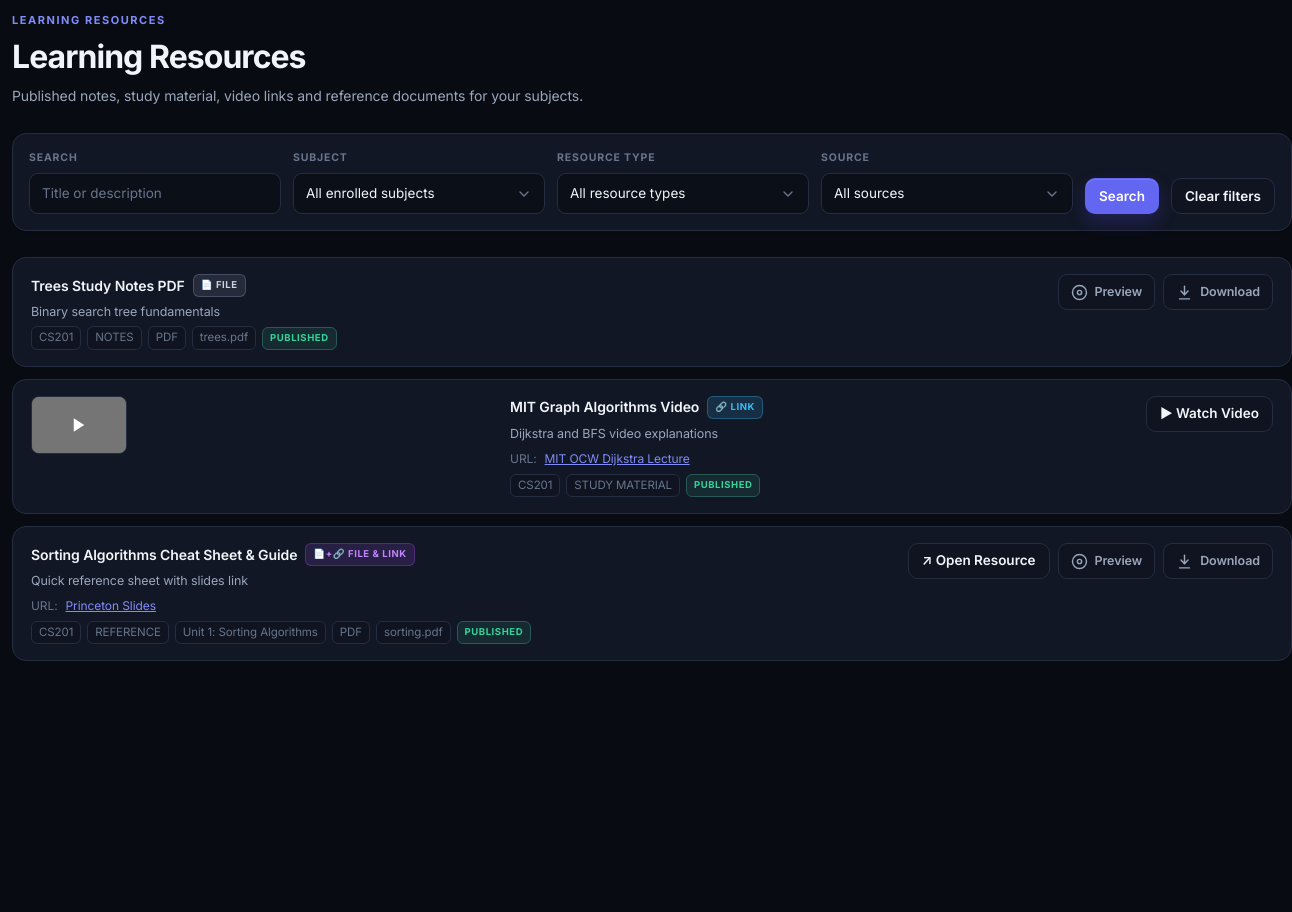
it: StudentResources — Learning Resources Viewing & Source Filtering › filters by source (Files only, External links only, Both)
Expected: the text "Trees Study Notes PDF" is shown, [31,275,185,296]
Filter to External links only
Select "External links only" in the dropdown labelled "Source" at (947, 194), box [821,173,1073,214]
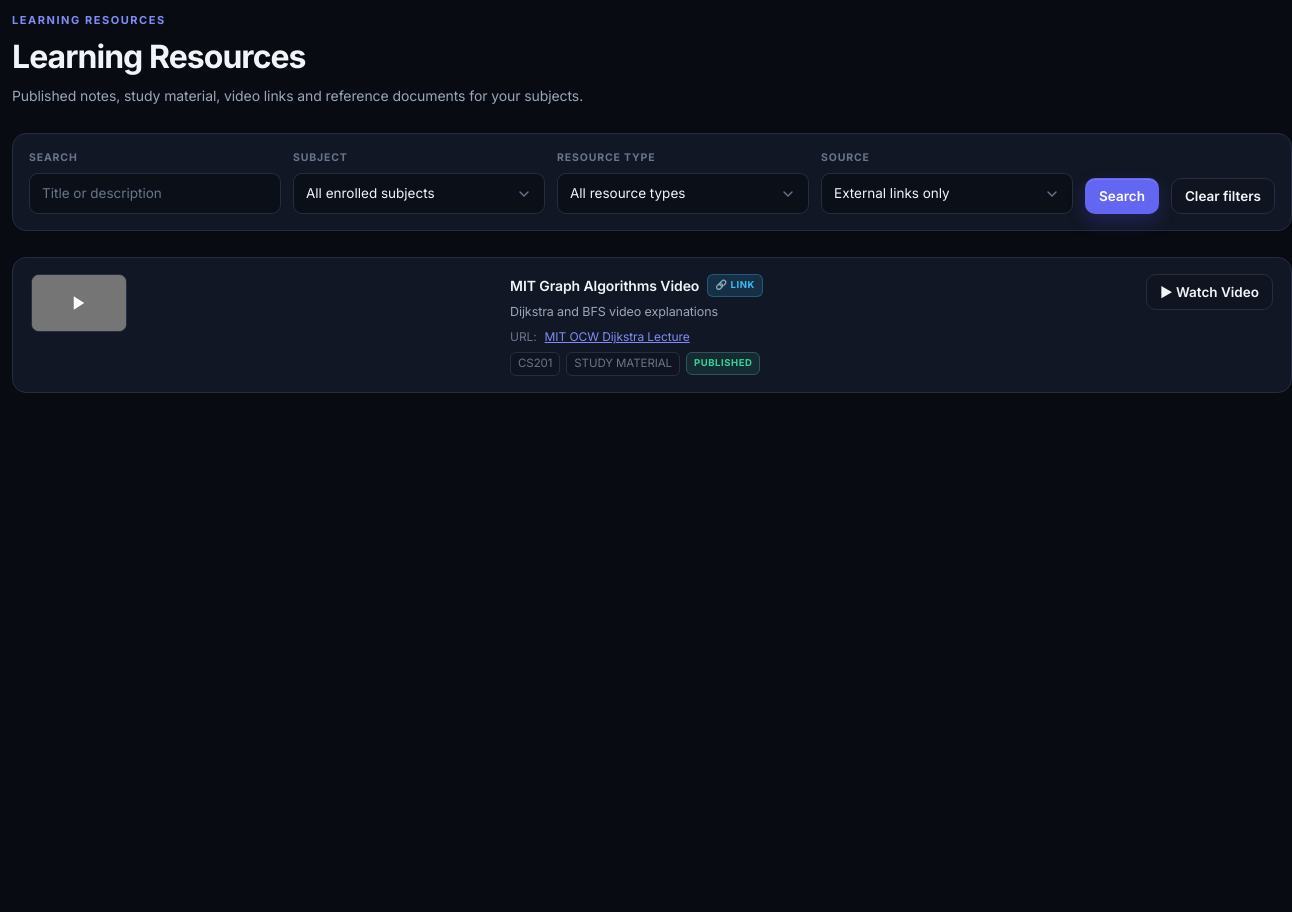
Expected: the text "MIT Graph Algorithms Video" is shown, [510,275,699,296]
Result: the text "Trees Study Notes PDF" is gone
Result: the text "Sorting Algorithms Cheat Sheet & Guide" is gone
Filter to Files only
Select "Files only" in the dropdown labelled "Source" at (947, 194), box [821,173,1073,214]
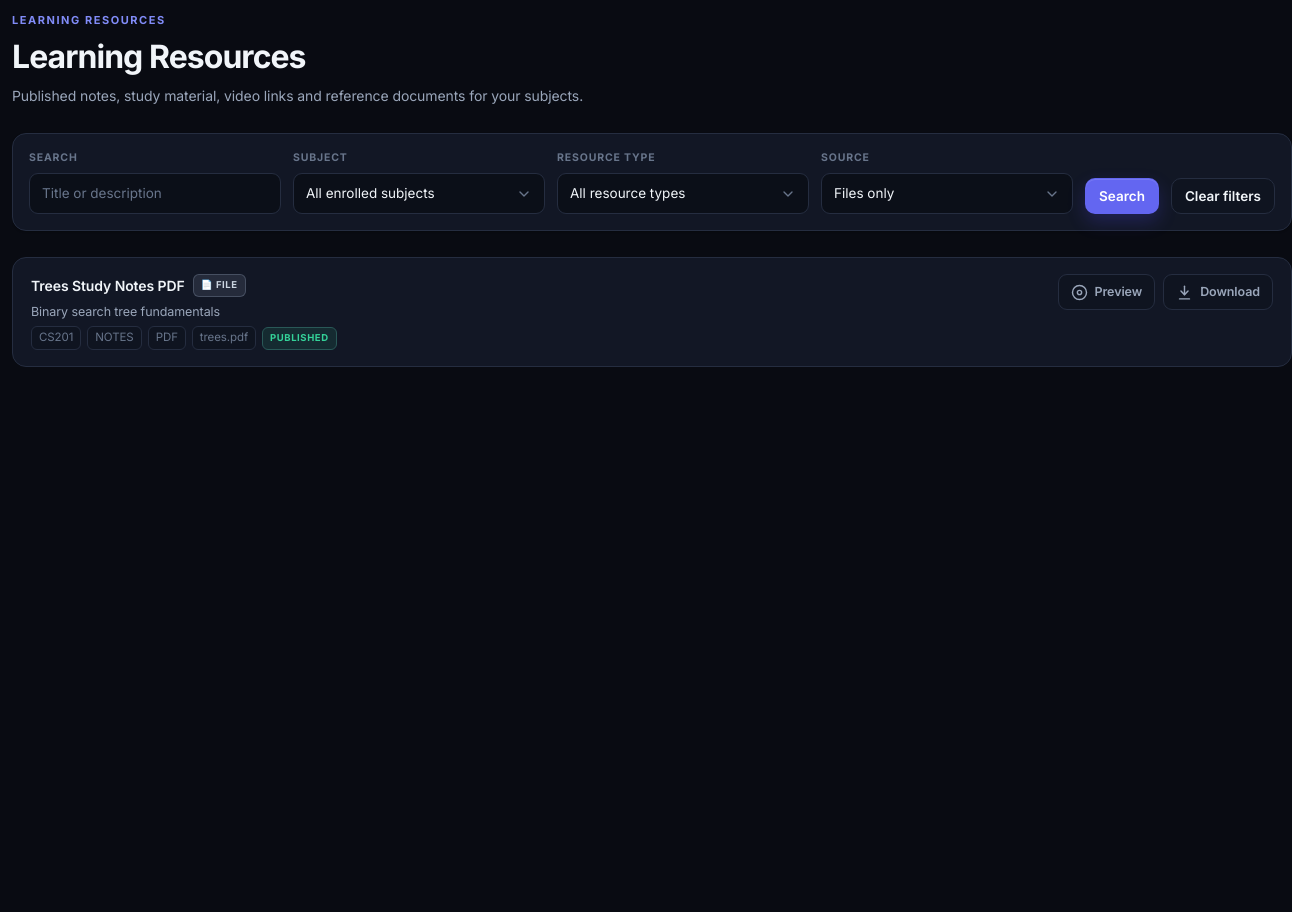
Expected: the text "Sorting Algorithms Cheat Sheet & Guide" is not shown
Result: the text "Trees Study Notes PDF" is shown at [31,275,185,296]
Result: the text "MIT Graph Algorithms Video" is gone
Filter to Both
Select "Both file & link" in the dropdown labelled "Source" at (947, 194), box [821,173,1073,214]
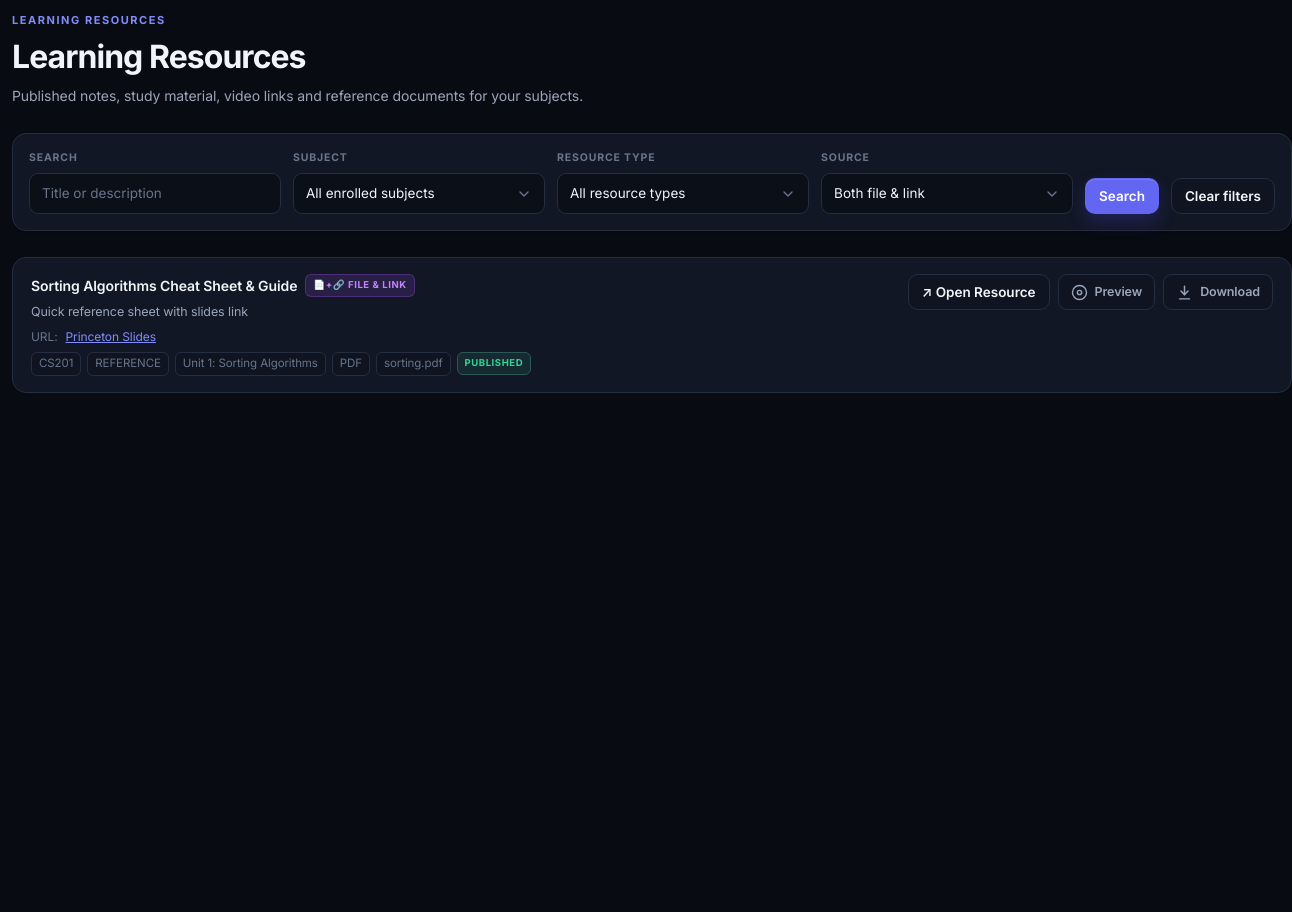
Expected: the text "MIT Graph Algorithms Video" is not shown
Result: the text "Trees Study Notes PDF" is gone
Result: the text "Sorting Algorithms Cheat Sheet & Guide" is shown at [31,275,297,296]
